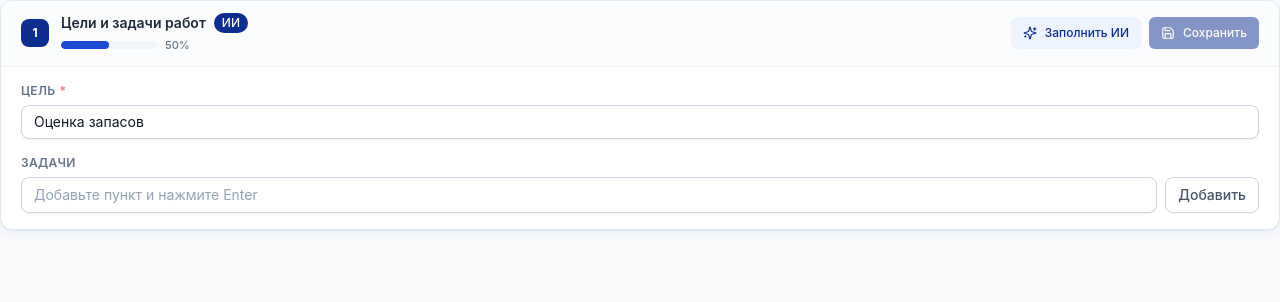
Test: TzBlockCard (filled_by) › сохранение вручную поверх ИИ даёт бейдж «ИИ + правки»
Expected: the text "ИИ" is shown, [214,13,248,33]
Type "!" into the text box labelled "Цель*".
click(640, 122); type("!")  # box [21,104,1259,138]
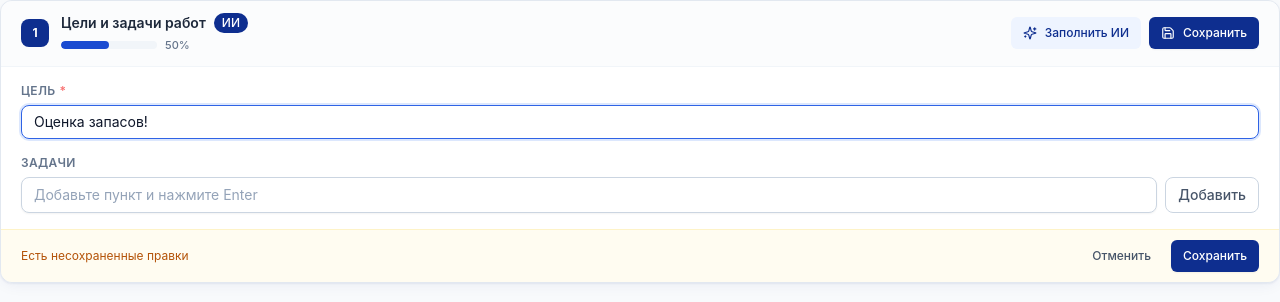
Click the button "Сохранить" in the row of "Цели и задачи работ".
click(1204, 33)  # box [1149,17,1259,49]
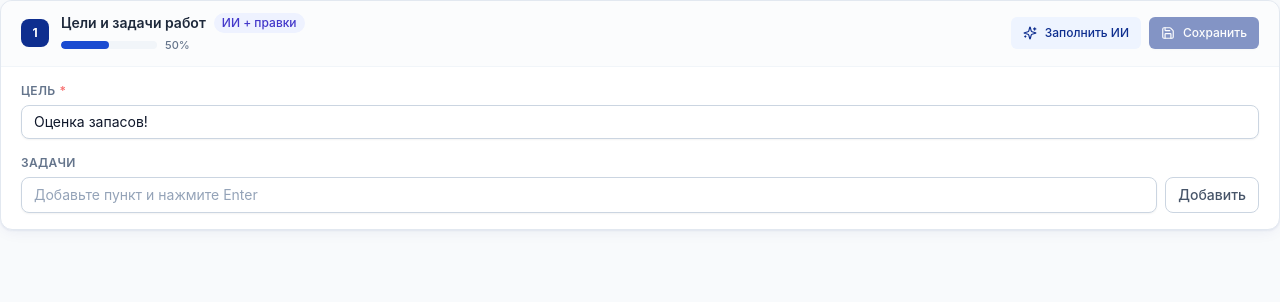
Now the text "ИИ + правки" is shown, box [214,13,305,33]
